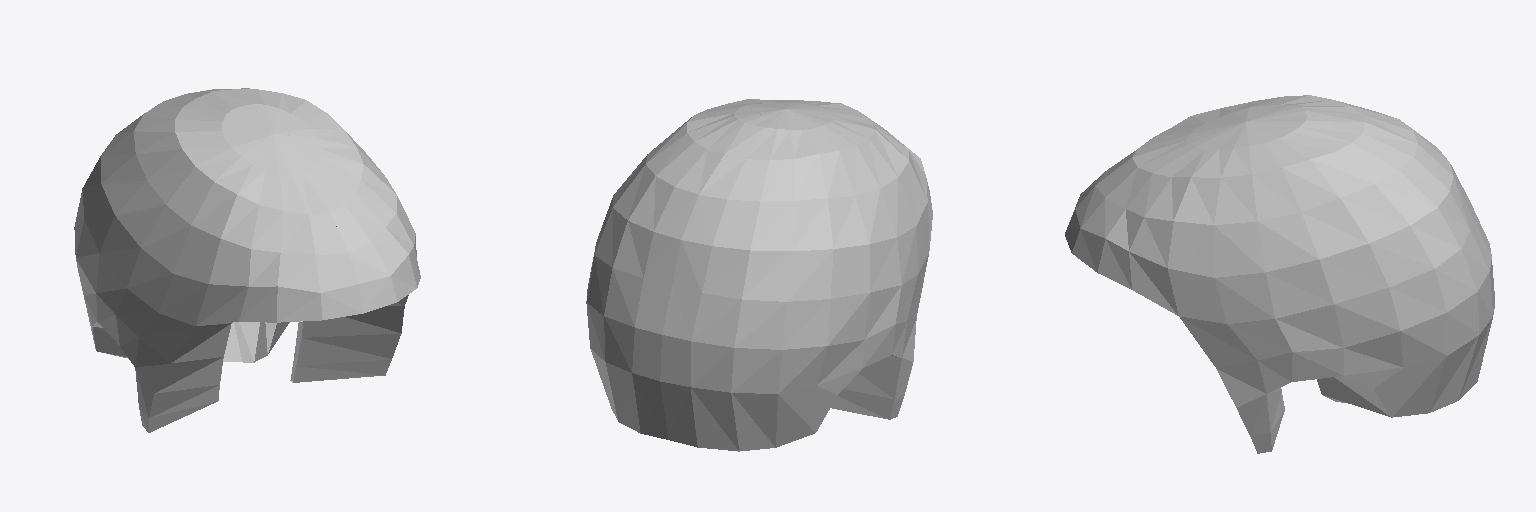
Rendered from jaffa_helmet.obj.
The picture shows the model from 3 angles: view 1: azimuth 30°, elevation 25°; view 2: azimuth 150°, elevation 25°; view 3: azimuth 270°, elevation 25°; orthographic projection.
Parts seen in each view (by area): view 1: Soldier.jaffa_ref.smd.mesh_8; view 2: Soldier.jaffa_ref.smd.mesh_8; view 3: Soldier.jaffa_ref.smd.mesh_8.
Part boxes in pixels (left/top/right/bottom): Soldier.jaffa_ref.smd.mesh_8: left=74, top=88, right=420, bottom=432; Soldier.jaffa_ref.smd.mesh_8: left=586, top=99, right=932, bottom=451; Soldier.jaffa_ref.smd.mesh_8: left=1065, top=95, right=1494, bottom=453.
Size of the model in its own units: 6.71 by 6.71 by 9.35.